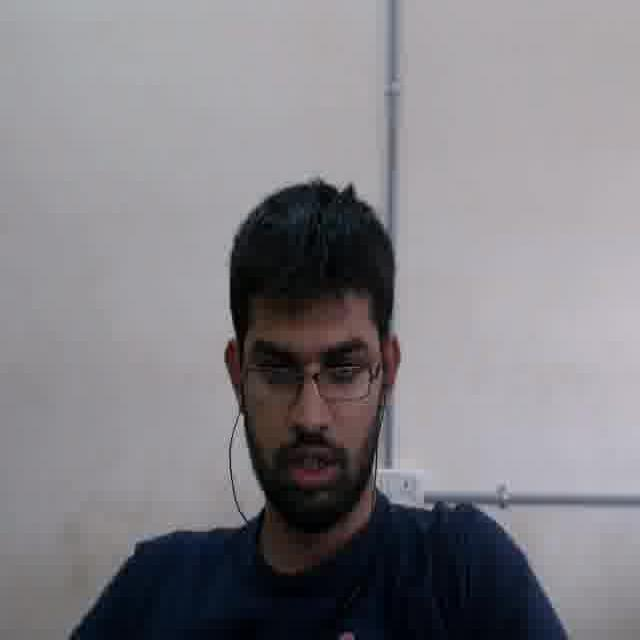Engaged: (236, 284, 380, 519)
